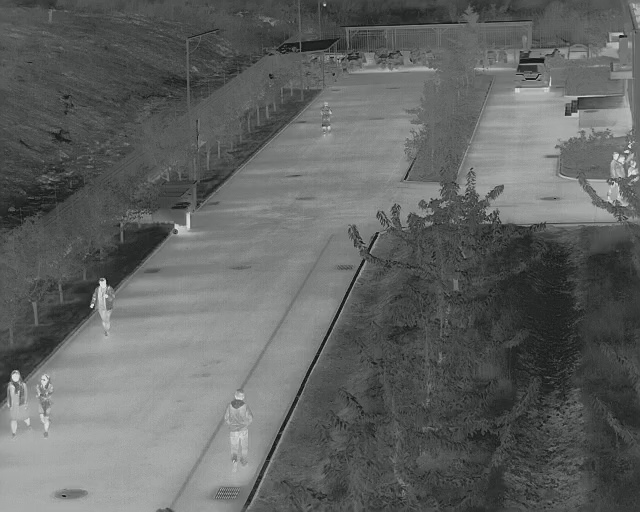person: (223, 384, 253, 474), (5, 367, 33, 442), (88, 277, 115, 339), (35, 371, 54, 441), (318, 98, 334, 139)
vehicle: (512, 57, 554, 98)
